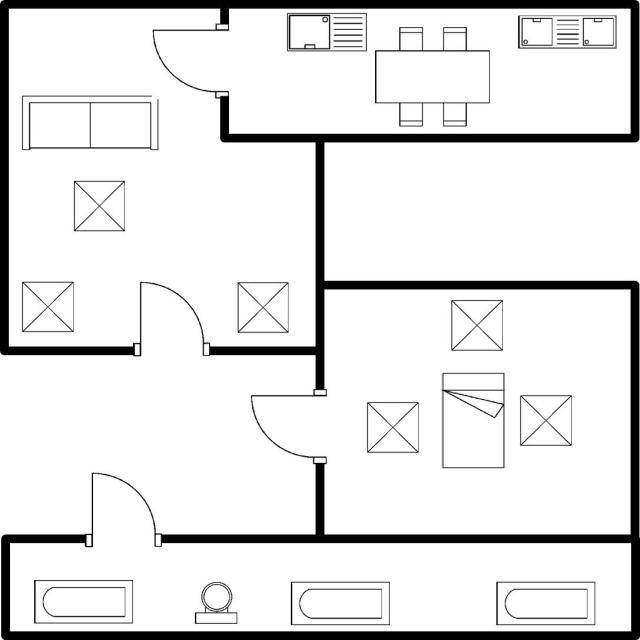bed: (434, 366, 508, 472)
coffee_table: (444, 296, 509, 356), (361, 397, 424, 458), (513, 392, 580, 449), (69, 176, 131, 236), (17, 277, 78, 337), (232, 276, 293, 336)
dining_table: (367, 20, 494, 130)
large_sink: (190, 578, 243, 628)
large_sofa: (15, 91, 162, 156)
sink: (282, 10, 371, 58)
tub: (284, 575, 394, 629), (27, 576, 140, 628), (490, 578, 600, 630)
twin_sink: (512, 11, 620, 55)
